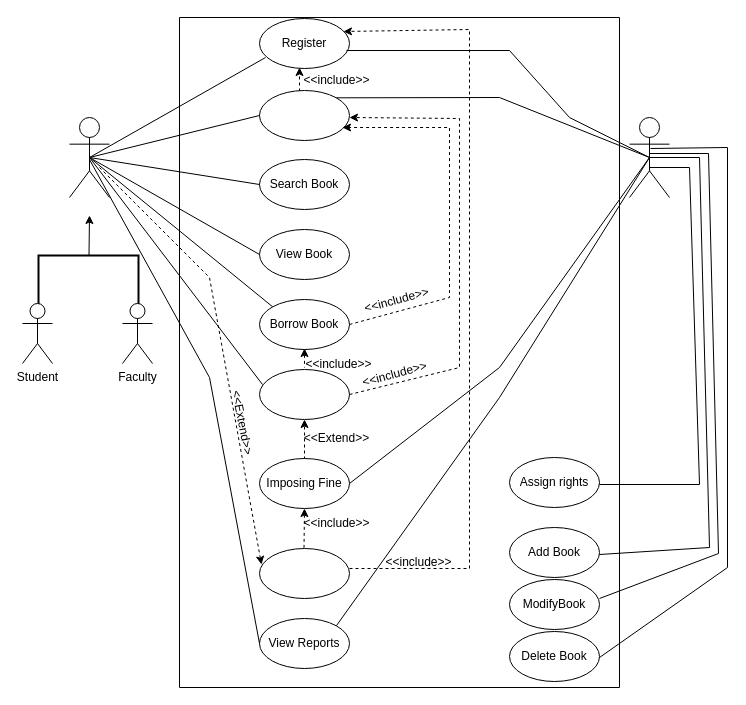
This 746x705 diagram has some shape labels left out. The shapes that lost their labels are listed below. From the top down, each one's centre as x and y in pixels, then its label:
At point 304,115: "Login".
At point 89,157: "Member".
At point 649,157: "Admin".
At point 304,394: "Return Book".
At point 304,573: "Pay Fine".
